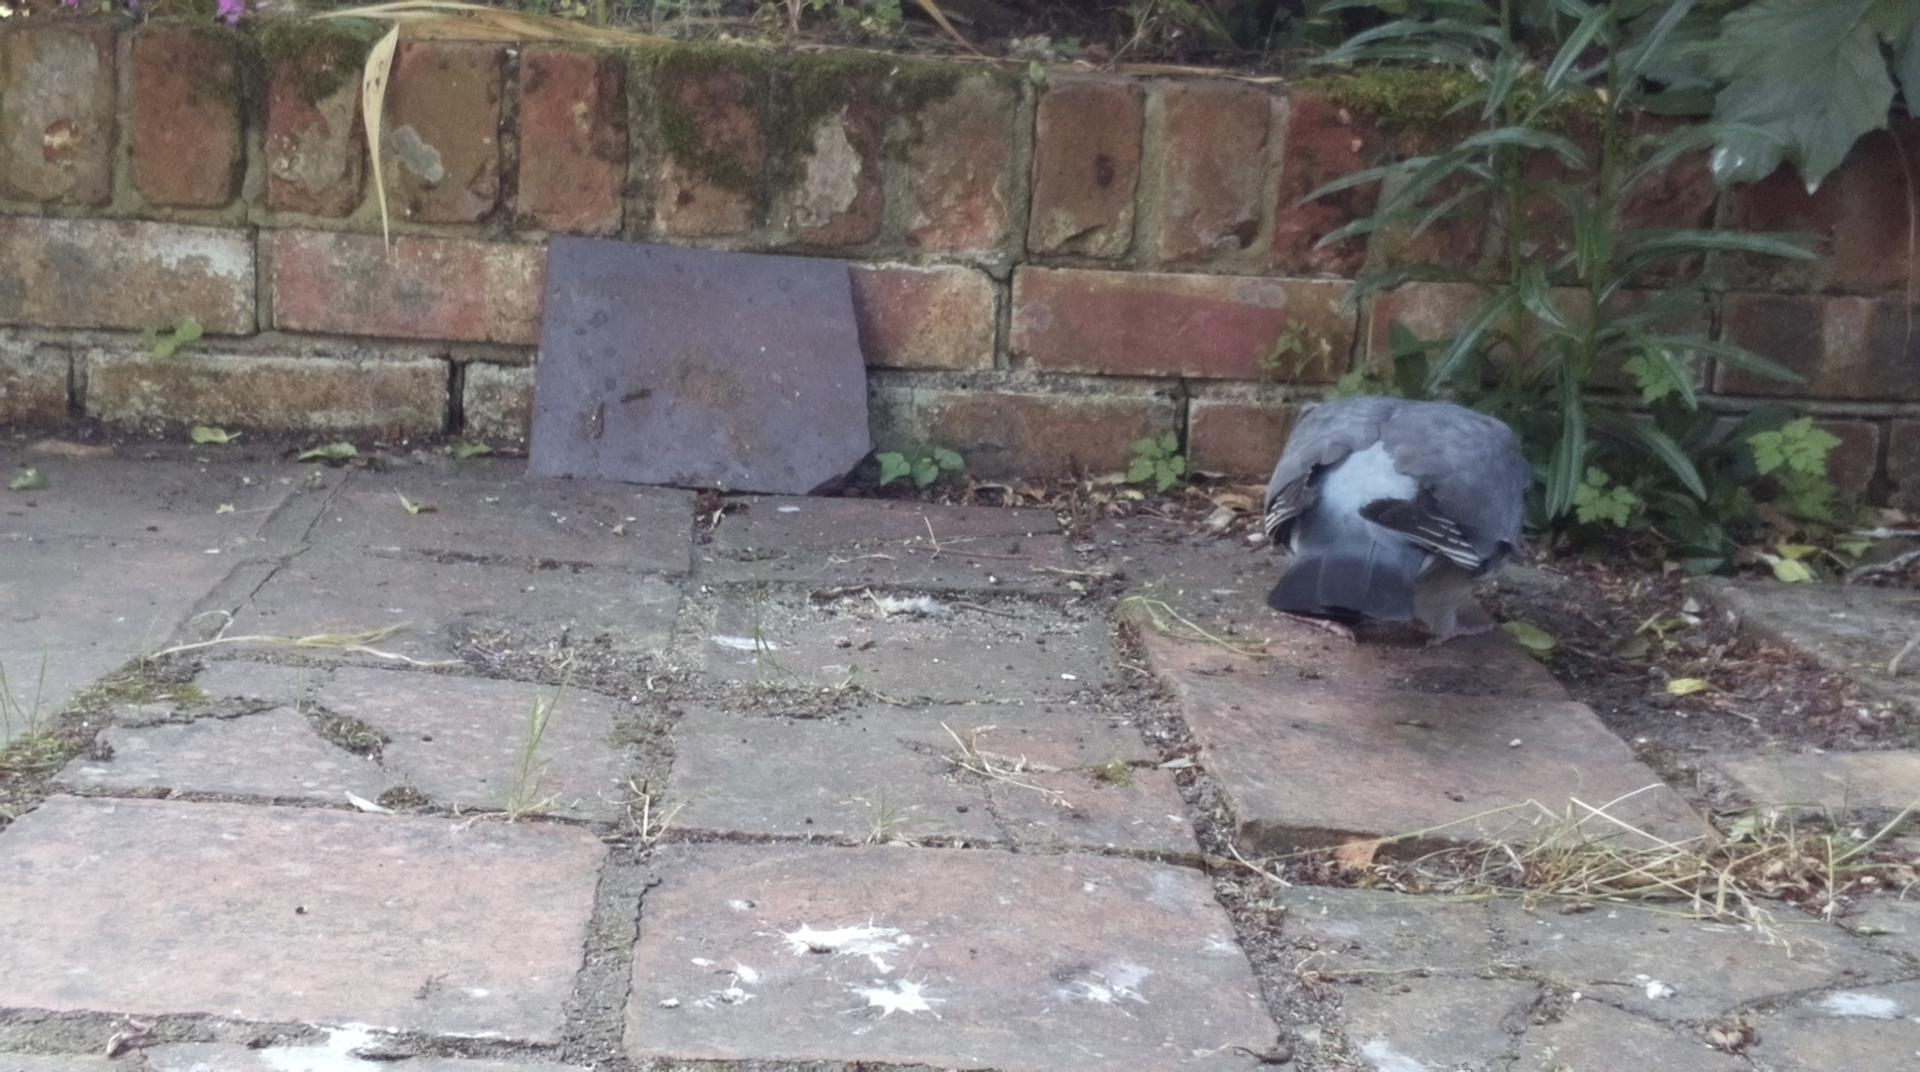wood pigeon: (1261, 394, 1530, 651)
